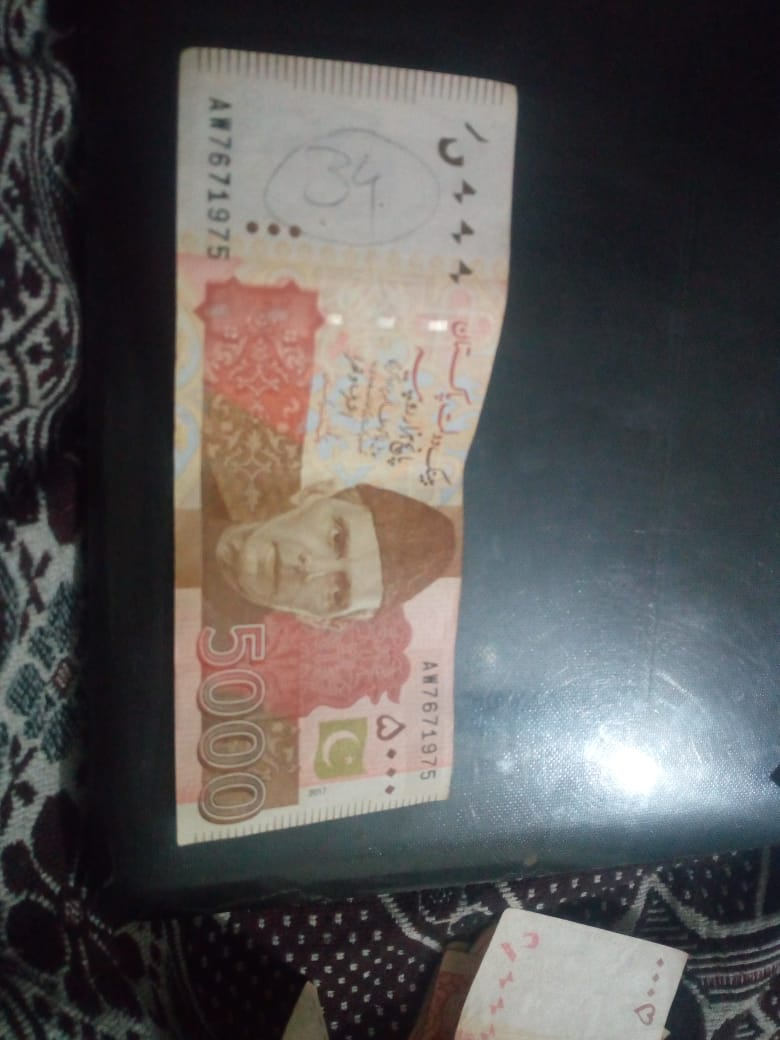5000 rupee: (149, 51, 507, 854)
